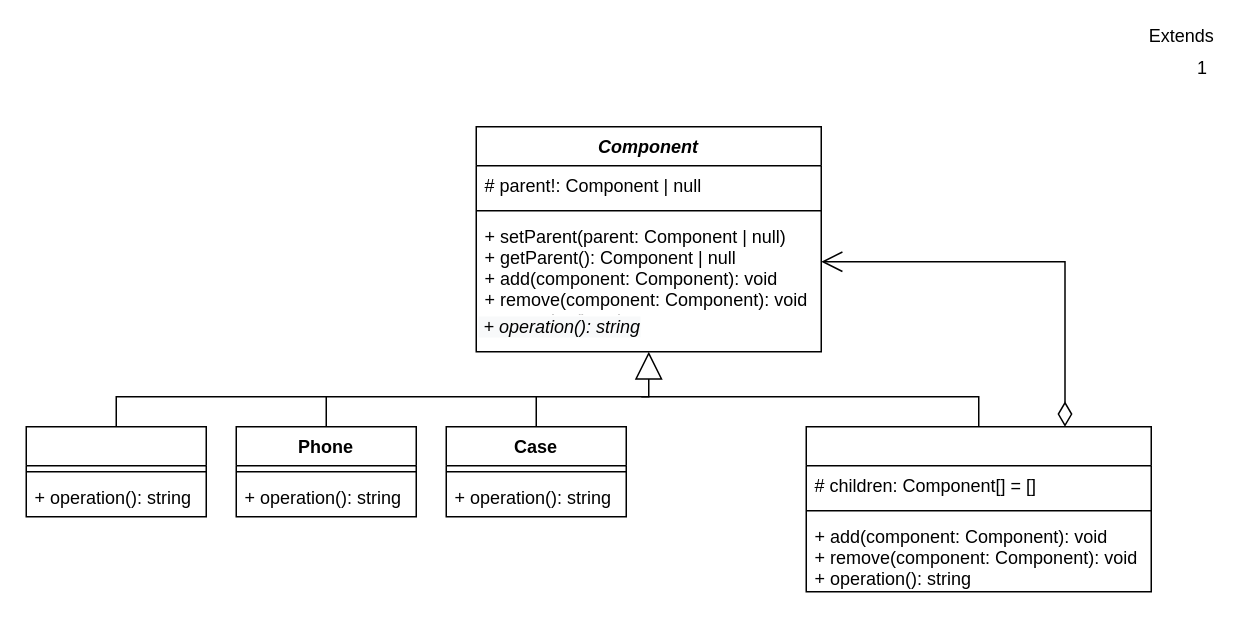
Image size: 1239x621. Some labels were removed from this diagram. Here are the shapes that lost their labels. From the top down, the box of each, then its label:
(25, 425, 206, 517): AirPods
(805, 425, 1151, 592): Composite
